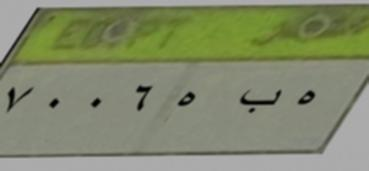0: (42, 92, 70, 118), (86, 87, 106, 117)
6: (128, 78, 164, 116)
7: (4, 79, 38, 119)
baa: (236, 84, 288, 119)
haa: (174, 85, 204, 116), (295, 85, 318, 115)
